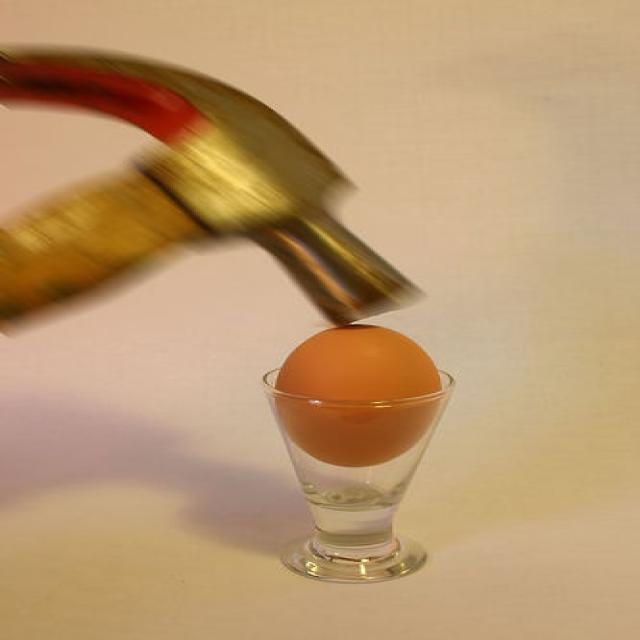hammer: (0, 1, 429, 342)
